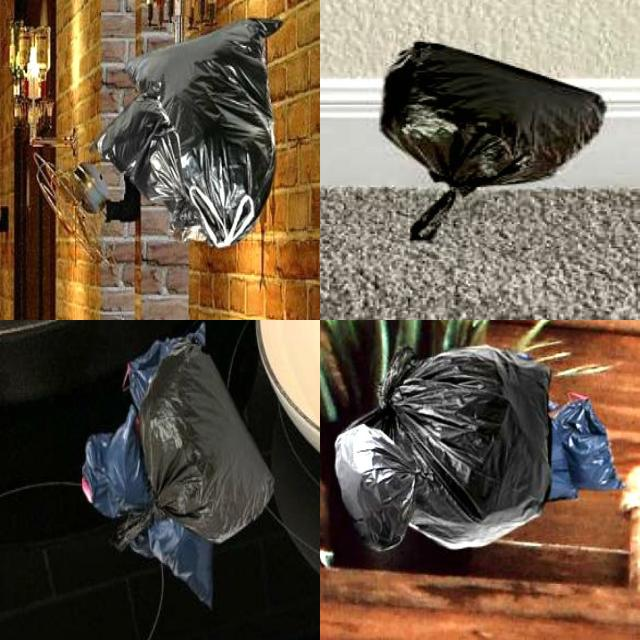Single-layer Plastic: (380, 41, 606, 241), (98, 19, 282, 248), (358, 345, 550, 548), (136, 344, 274, 542), (335, 424, 415, 551), (548, 395, 622, 500)
